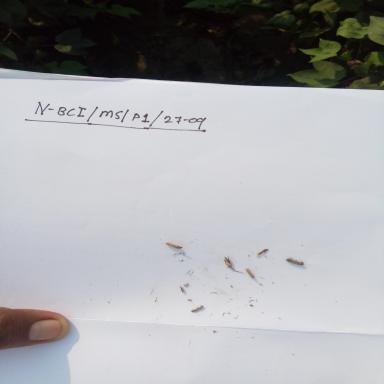pbw: (284, 253, 309, 273), (165, 238, 190, 253), (221, 252, 238, 272), (188, 301, 207, 314), (244, 266, 255, 280)
